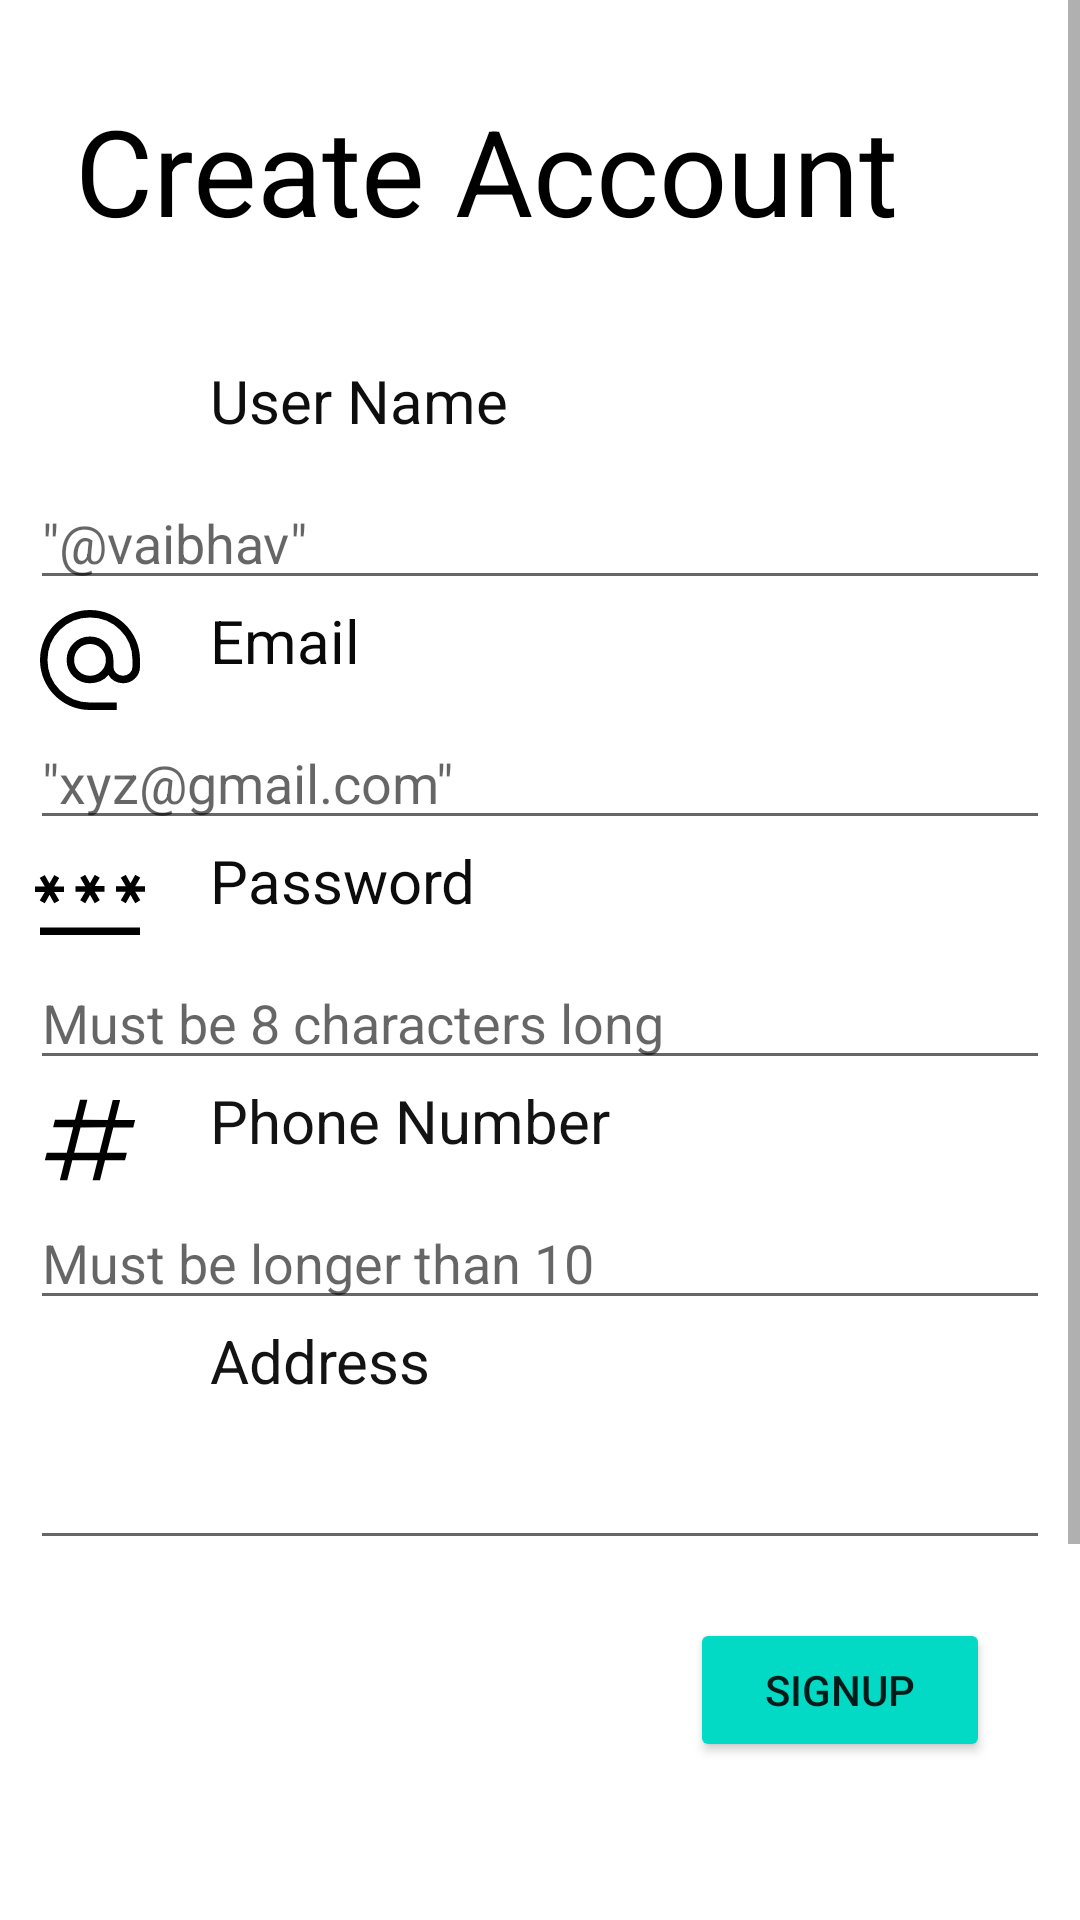

Icons on this 1080 x 1920 Android screen, each with its box as (x1, y1, x2, y2):
mobilenoicon: (45, 1099, 135, 1181)
